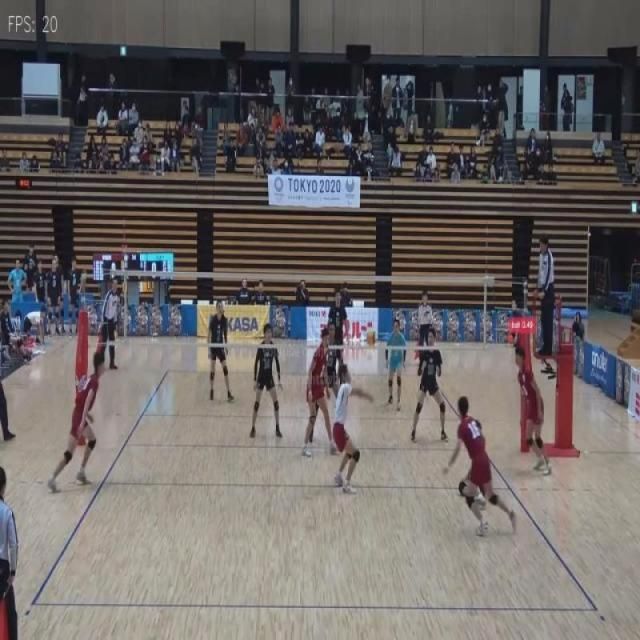volleyball: (366, 329, 377, 346), (114, 329, 119, 339)
